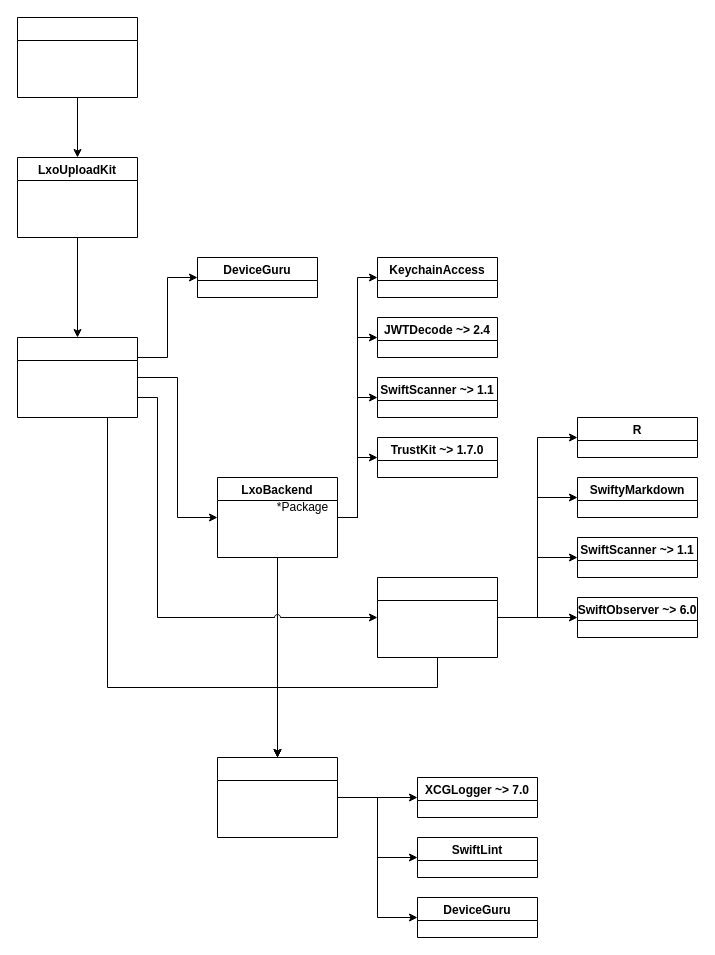
Some shapes in this 715 by 955 pixel diagram are drawn without their labels. The shapes that lost their labels are listed below. From the top down, each one's centre as x and y in pixels, then its label:
At pixel 77 57: "LxoScankit".
At pixel 77 377: "LxoToolkit".
At pixel 437 617: "LxoUIKit".
At pixel 277 797: "LxoFoundation".
